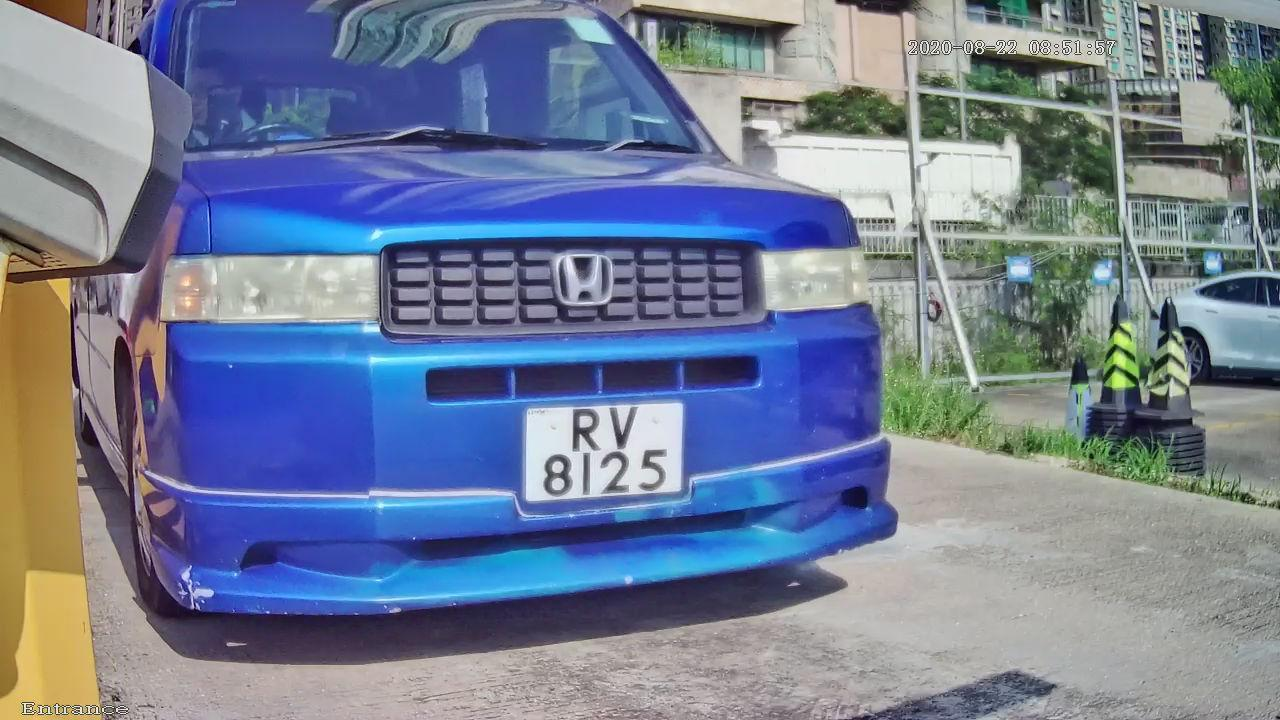License Plate: (509, 383, 692, 528)
